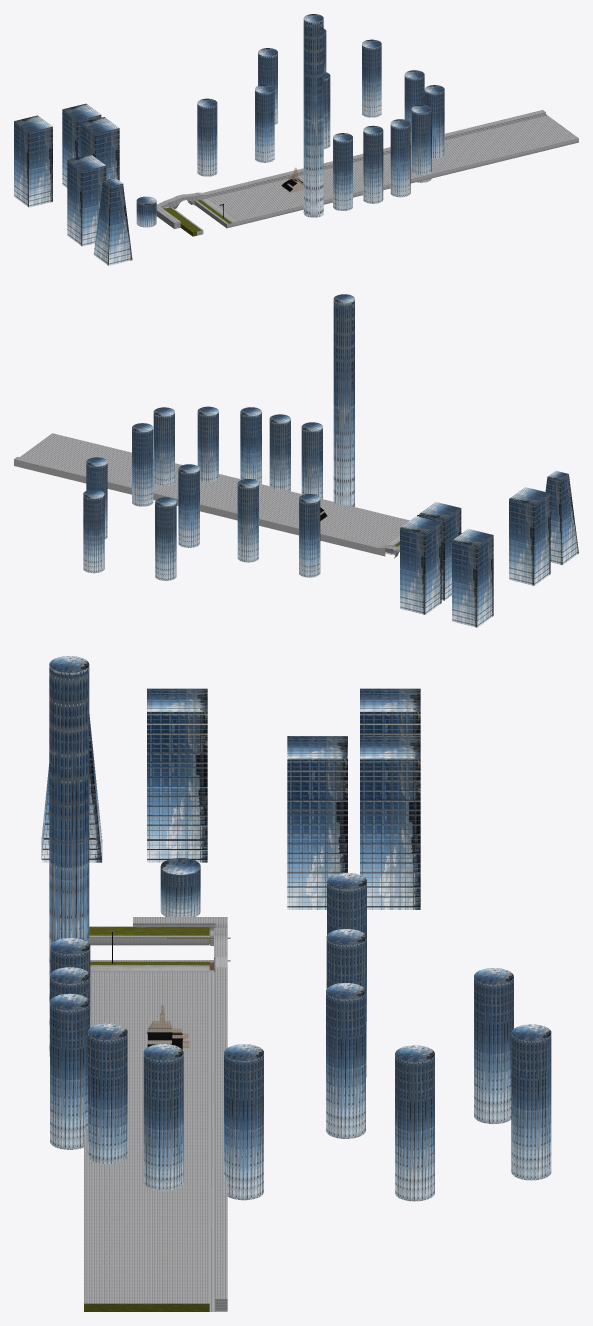
The model's file is Lisch.glb.
3 renders of one model, top to bottom at view 1: azimuth 30°, elevation 25°; view 2: azimuth 150°, elevation 25°; view 3: azimuth 270°, elevation 25°, orthographic. The views are drawn at different scales.
Visible parts, largest first — view 1: Lidan, Cylinder, Cube.003, Cube.001, Cube.002, Cube.005, Cylinder.002, Cylinder.006, Cylinder.003, Cylinder.011, Cylinder.001, Cylinder.010 (+7 smaller); view 2: Lidan, Cylinder, Cube.001, Cube.003, Cube.004, Cube.002, Cylinder.007, Cylinder.008, Cylinder.009, Cylinder.013, Cylinder.006, Cylinder.010 (+7 smaller); view 3: Lidan, Cylinder, Cube.001, Cube.004, Cube.005, Cylinder.009, Cylinder.011, Cylinder.007, Cylinder.013, Cylinder.008, Cylinder.014, Cylinder.002 (+9 smaller).
Part boxes in pixels (<box>): Lidan: <box>156,110,578,236</box>; Cylinder: <box>303,14,323,217</box>; Cube.003: <box>14,115,52,207</box>; Cube.001: <box>67,154,106,246</box>; Cube.002: <box>93,178,132,265</box>; Cube.005: <box>80,117,119,180</box>; Cylinder.002: <box>390,119,410,197</box>; Cylinder.006: <box>197,98,217,176</box>; Cylinder.003: <box>363,125,383,203</box>; Cylinder.011: <box>362,39,381,117</box>; Cylinder.001: <box>333,133,352,210</box>; Cylinder.010: <box>255,85,274,162</box>; Lidan: <box>14,433,461,558</box>; Cylinder: <box>333,294,354,506</box>; Cube.001: <box>509,487,550,585</box>; Cube.003: <box>452,529,493,627</box>; Cube.004: <box>400,516,441,614</box>; Cube.002: <box>545,471,578,565</box>; Cylinder.007: <box>178,464,199,547</box>; Cylinder.008: <box>155,497,176,580</box>; Cylinder.009: <box>83,489,104,573</box>; Cylinder.013: <box>132,423,153,506</box>; Cylinder.006: <box>299,494,320,577</box>; Cylinder.010: <box>237,479,258,562</box>; Lidan: <box>84,917,227,1311</box>; Cylinder: <box>49,656,89,1056</box>; Cube.001: <box>147,688,207,862</box>; Cube.004: <box>360,736,420,909</box>; Cube.005: <box>287,736,347,909</box>; Cylinder.009: <box>511,1024,551,1180</box>; Cylinder.011: <box>395,1045,434,1201</box>; Cylinder.007: <box>326,983,365,1138</box>; Cylinder.013: <box>224,1044,263,1200</box>; Cylinder.008: <box>474,968,513,1124</box>; Cylinder.014: <box>143,1044,183,1190</box>; Cylinder.002: <box>50,993,89,1149</box>.
Size of the model in its own units: 6973 by 2718 by 3202.
Materials: 8 (5 with a texture image).
